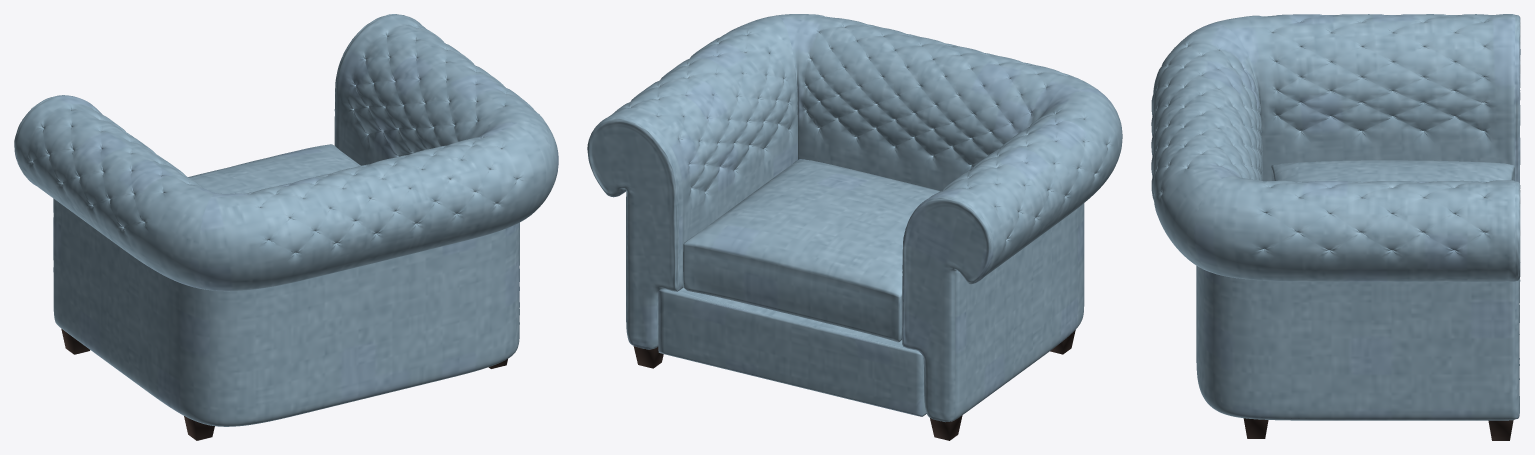
The model's file is Sofa12.glb.
3 views of the same model, side by side, from view 1: azimuth 30°, elevation 25°; view 2: azimuth 150°, elevation 25°; view 3: azimuth 270°, elevation 25° (orthographic). The views are drawn at different scales.
Parts seen in each view (by area): view 1: Sofa12_model; view 2: Sofa12_model; view 3: Sofa12_model.
Boxes of the visible parts, x1,y1,x2,y2 form: Sofa12_model: (14, 14, 558, 440); Sofa12_model: (587, 14, 1122, 440); Sofa12_model: (1151, 14, 1520, 440).
Bounding box in the file's own units: 2.76 × 1.61 × 2.07.
1 material, 1 textured.
